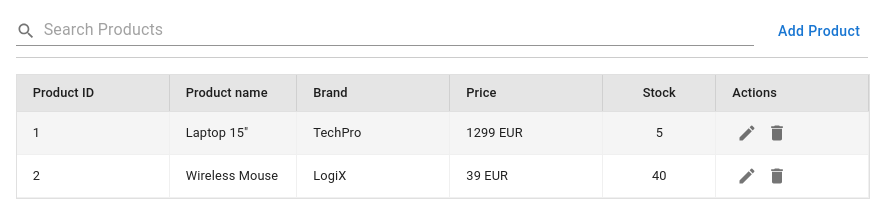
it: App product table › filters products based on search input
This screenshot has width=887, height=216.
Check: the text "Laptop 15\"" is shown, box [169,112,297,155]
Type "mouse" into the field with placeholder "Search Products".
click(399, 31); type("mouse")  # box [44,16,754,46]
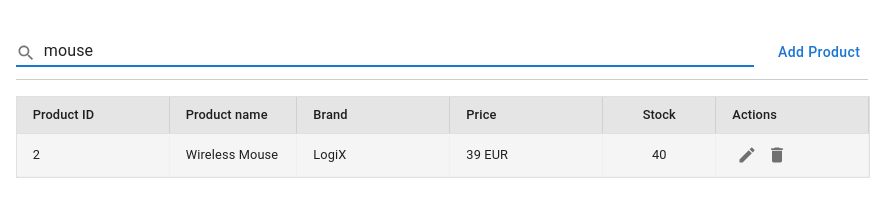
Check: the text "Wireless Mouse" is shown, box [169,133,297,176]
Check: the text "Laptop 15" is gone
